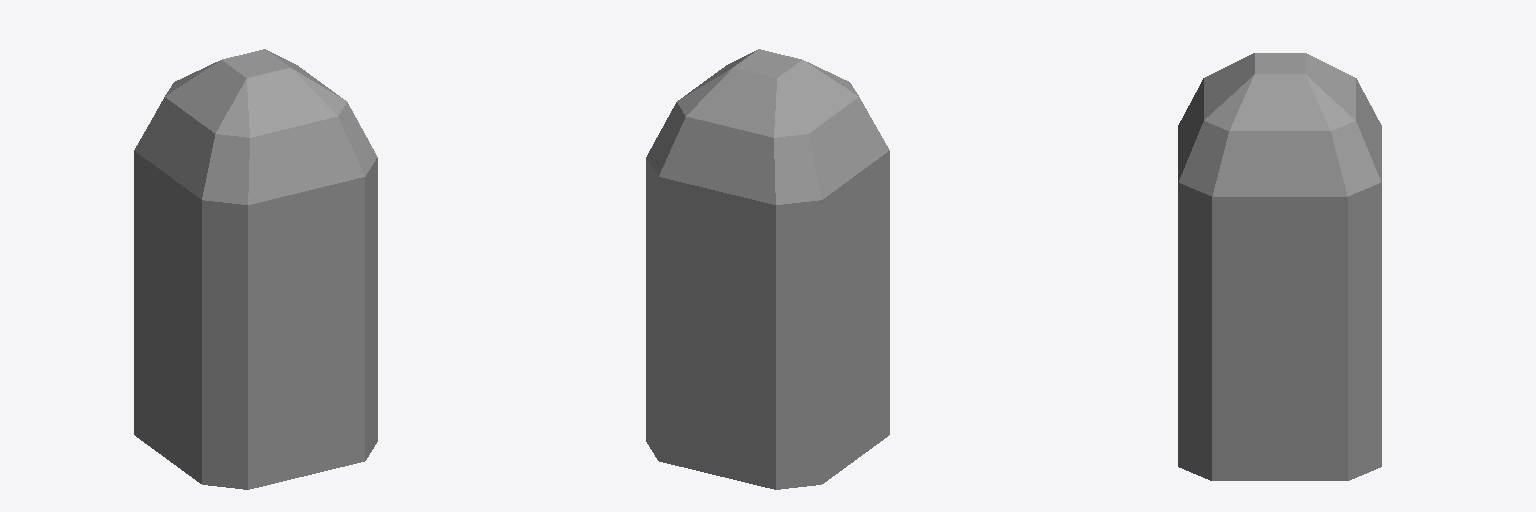
Rendered from growthpot.obj.
The picture shows the model from 3 angles: view 1: azimuth 30°, elevation 25°; view 2: azimuth 150°, elevation 25°; view 3: azimuth 270°, elevation 25°; orthographic projection.
Parts seen in each view (by area): view 1: Cube.001; view 2: Cube.001; view 3: Cube.001.
Boxes of the visible parts, x1=… form: Cube.001: x1=134, y1=49, x2=377, y2=489; Cube.001: x1=646, y1=49, x2=889, y2=489; Cube.001: x1=1178, y1=53, x2=1381, y2=480.
Size of the model in its own units: 0.9375 by 1.96 by 0.9375.